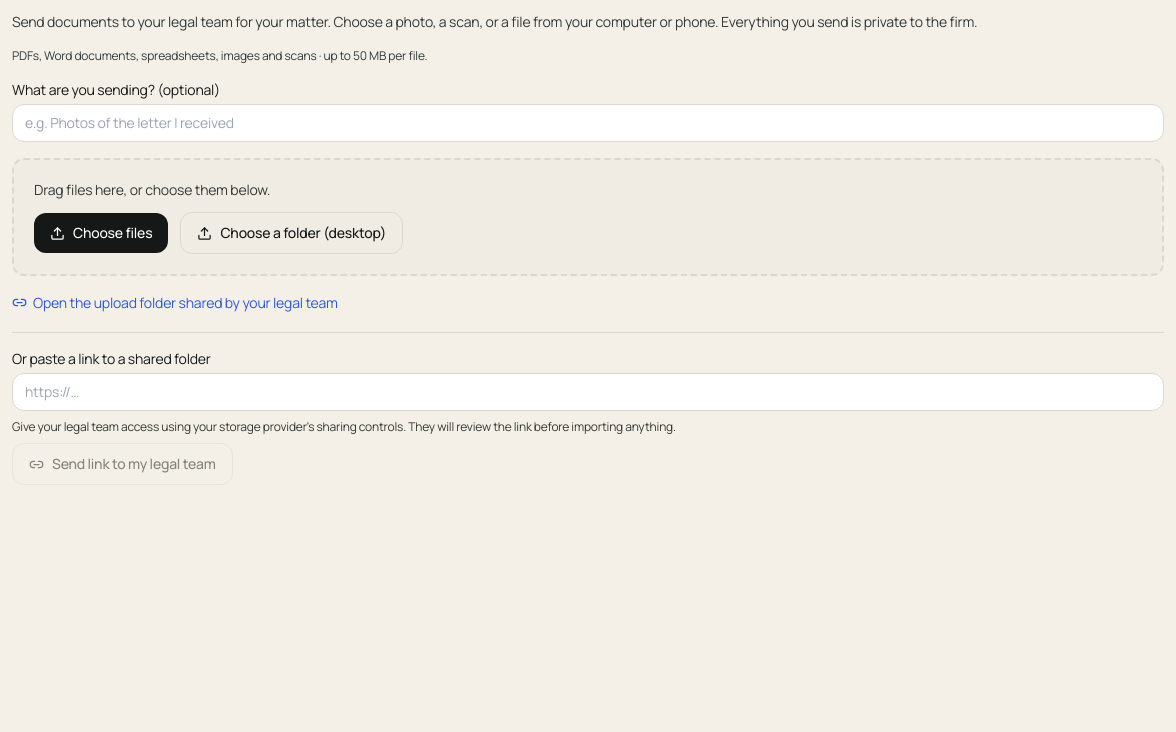
shows only the explicitly published upload link and submits a source for review
Type "https://files.example/source" into the field labelled "Or paste a link to a shared folder". click: (588, 392)
box: [12,373,1164,411]
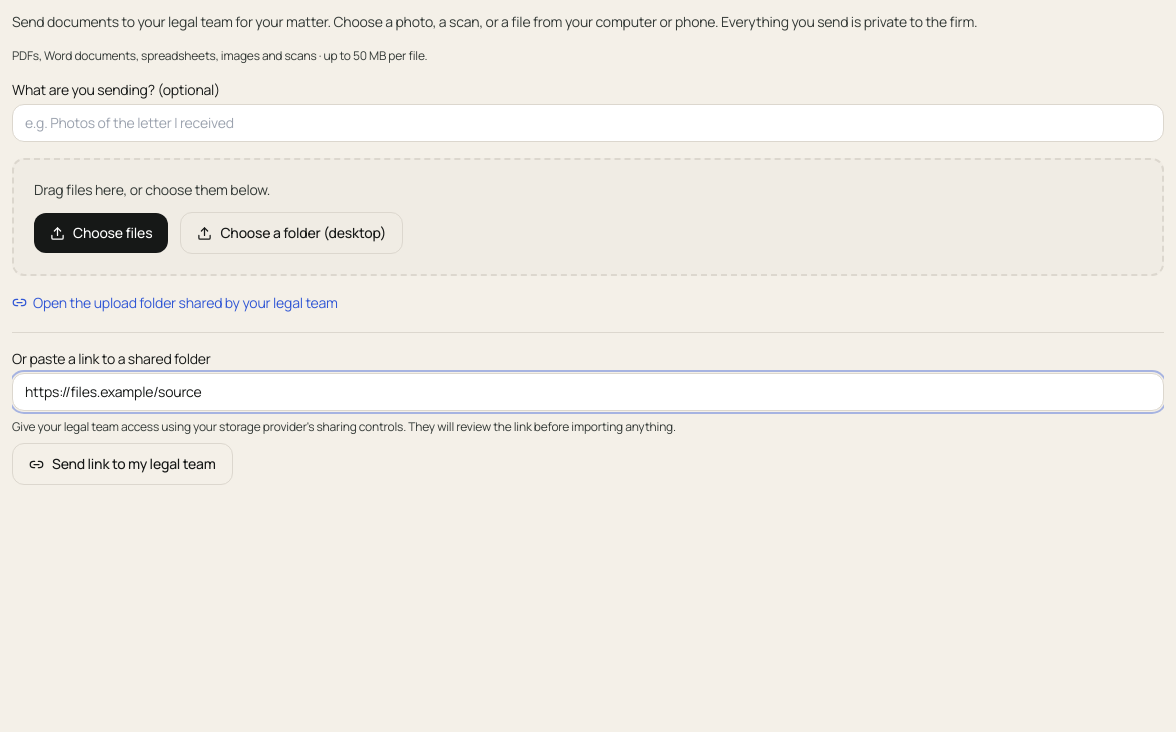
Click the button "Send link to my legal team". click: (122, 464)
box: [12,443,232,485]
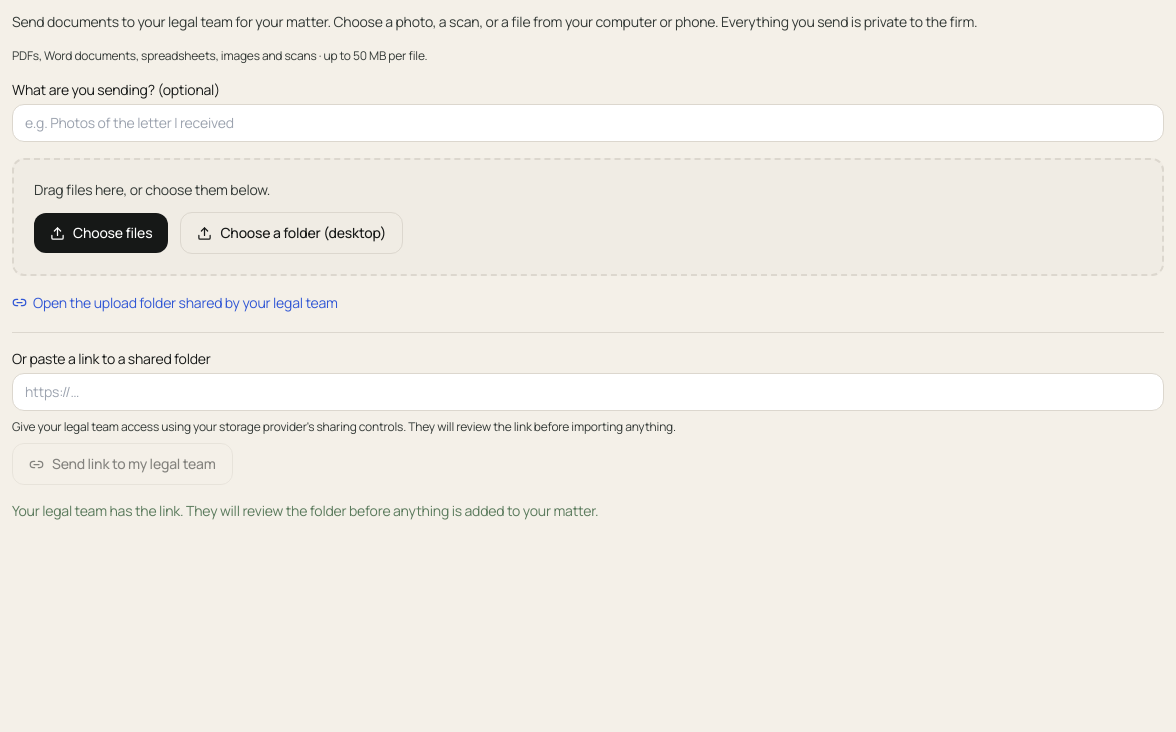
Expected: the text "will review the folder" is shown, [12,501,598,520]
